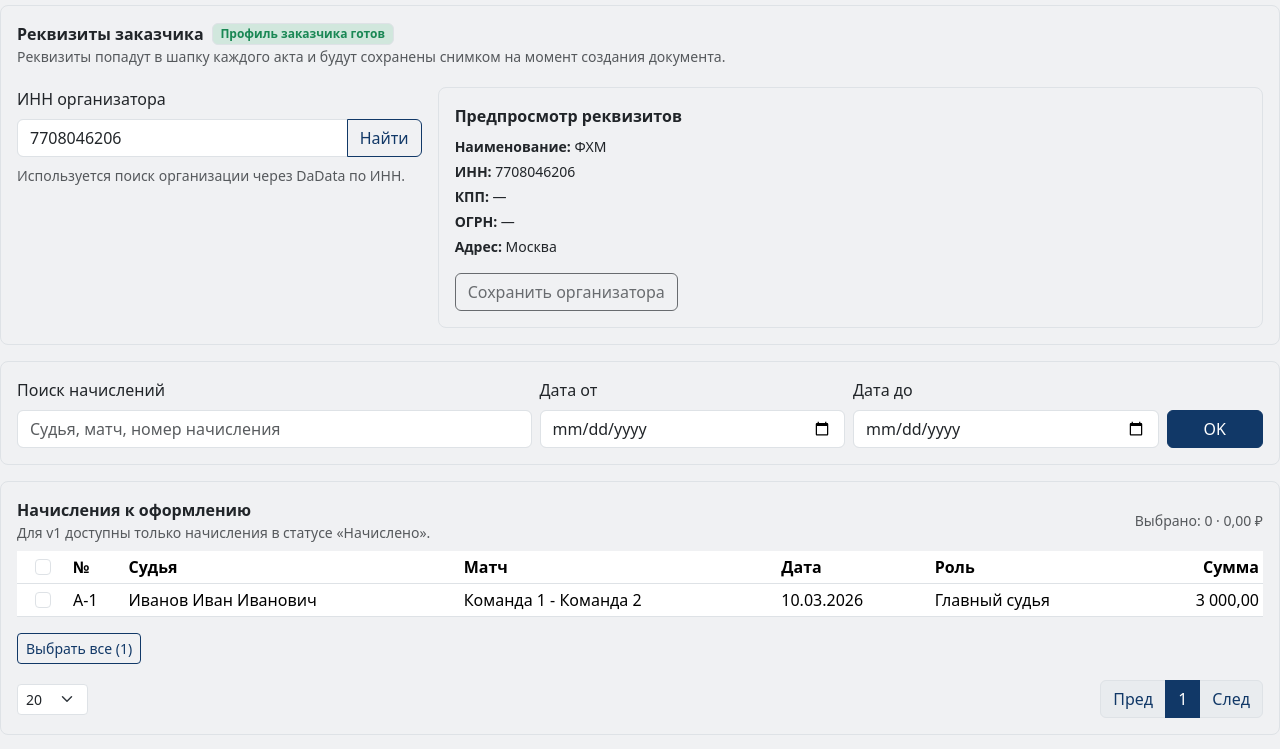
Scenario: RefereeClosingDocumentsManager › shows missing bank account blocker in preview
Expected: the text "A-1" is shown, [69,584,124,616]
Step 1. Click the checkbox named "Выбрать начисление A-1" → (43, 600), box [35,592,51,608]
(page scrolled)
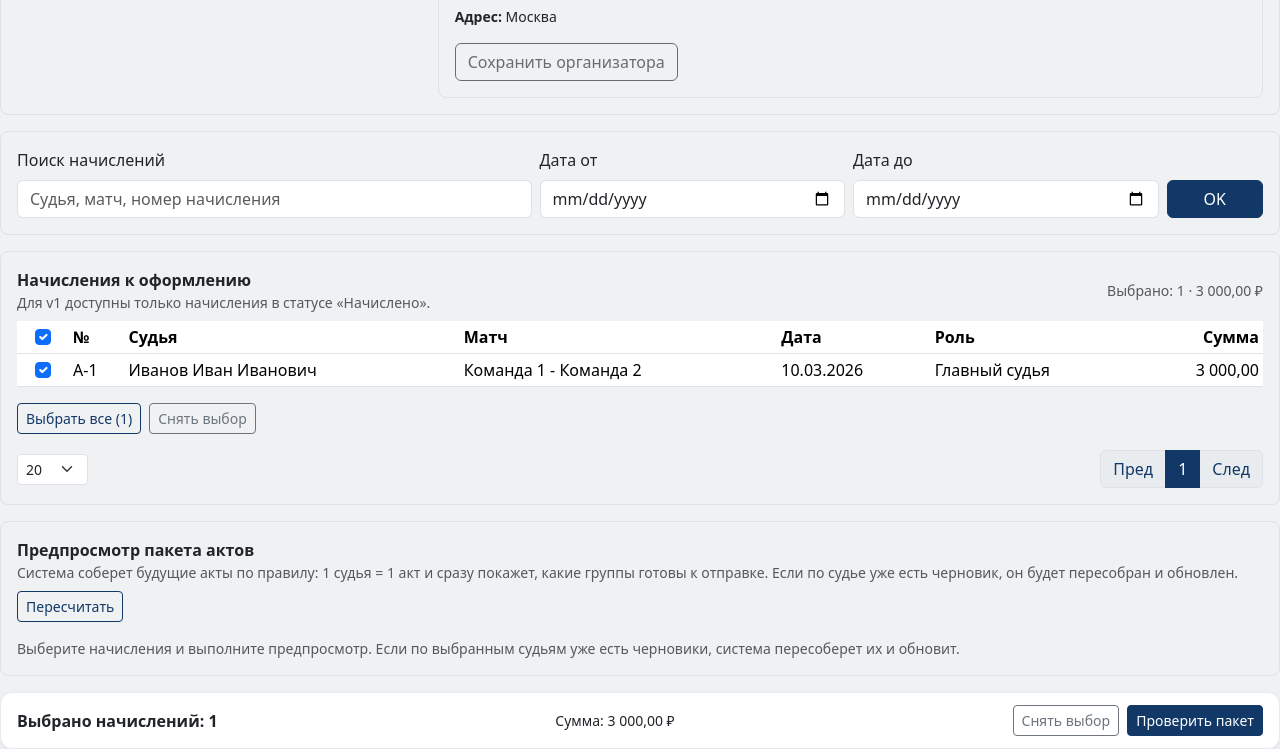
Step 2. Click the button "Пересчитать" → (70, 606), box [17,591,124,622]
(page scrolled)
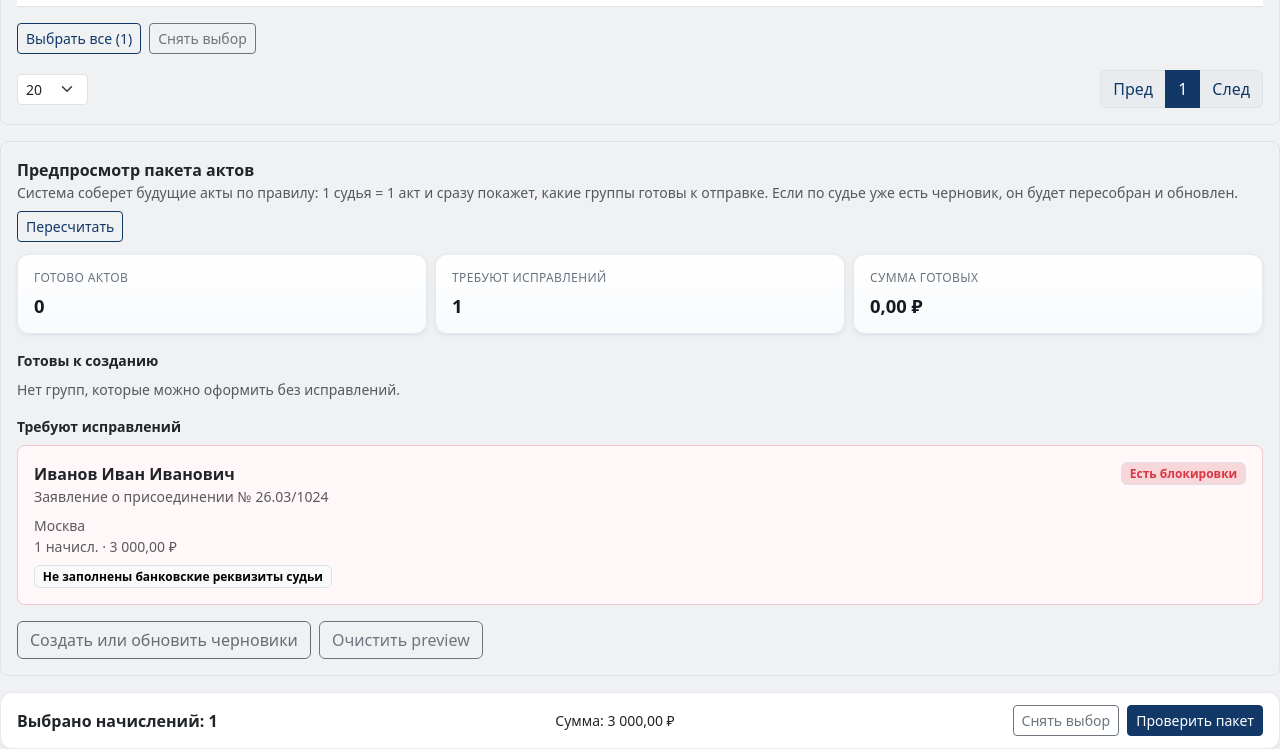
Result: the text "Не заполнены банковские реквизиты судьи" is shown at [34,565,332,588]
